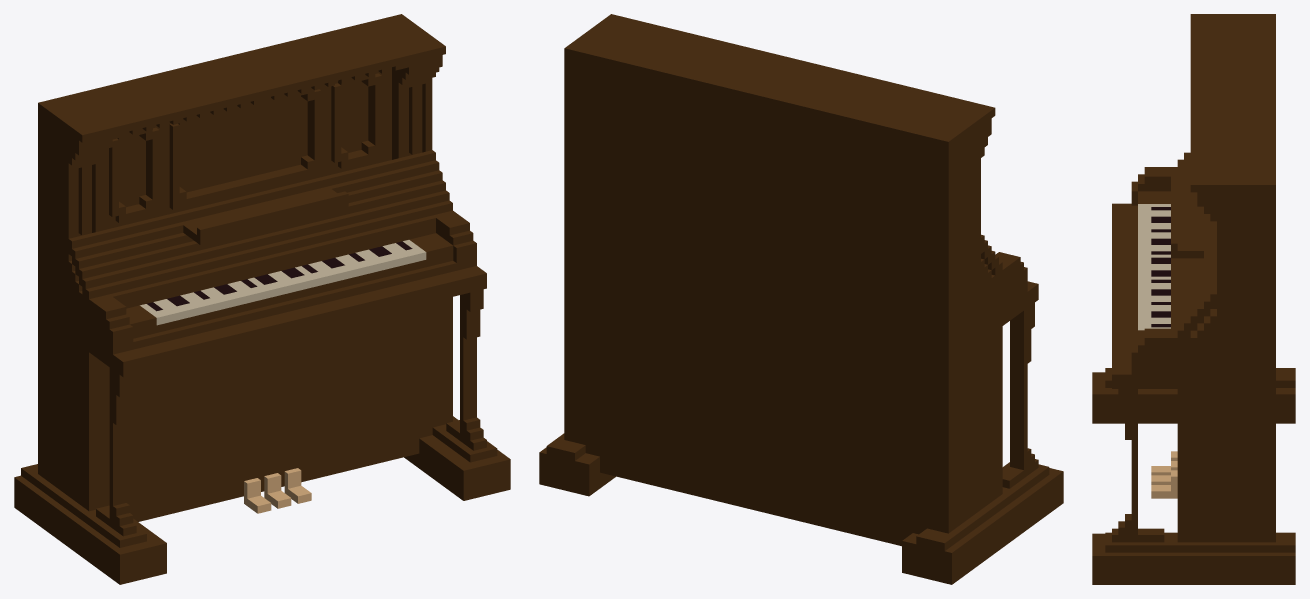
File: piano.fbx
3 renders of one model, left to right at view 1: azimuth 30°, elevation 25°; view 2: azimuth 150°, elevation 25°; view 3: azimuth 270°, elevation 25°, orthographic. The views are drawn at different scales.
Visible parts, largest first — view 1: Piano; view 2: Piano; view 3: Piano.
Part boxes in pixels (x1,y1,x2,y2): Piano: (14,14,510,584); Piano: (539,14,1063,584); Piano: (1092,14,1295,584).
Bounding box in the file's own units: 160 × 160 × 75.
